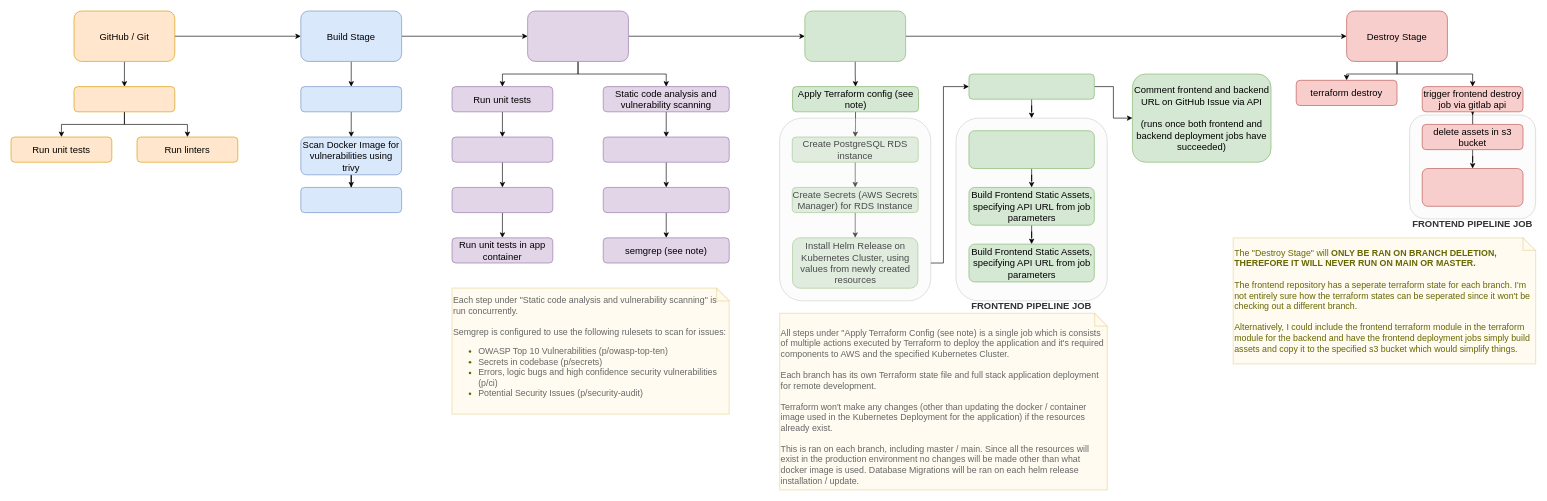
The diagram is 1547 pixels wide and 501 high, and some of its shapes have lost their labels. The box of each missing label's shape, as (x1, y1, x2, y2) in pixels:
Apply Terraform Module (Creates CloudFront Distribution and S3 Bucket): (968, 130, 1094, 169)
Build Docker Image: (300, 86, 402, 112)
Deployment Stage: (804, 10, 906, 61)
destroy terraform managed resources for branch: (1422, 168, 1523, 206)
flake8 (linter): (603, 136, 729, 162)
Pre-Commit Hooks: (73, 86, 175, 112)
Push to container image registry: (300, 187, 402, 213)
Run database migrations: (451, 187, 553, 213)
safety (dependency vulnerability scanner): (603, 187, 729, 213)
Start PostgreSQL container: (451, 136, 553, 162)
Test Stage: (527, 10, 628, 61)
Trigger Frontend GitLab CI Pipeline via API: (968, 73, 1094, 99)
